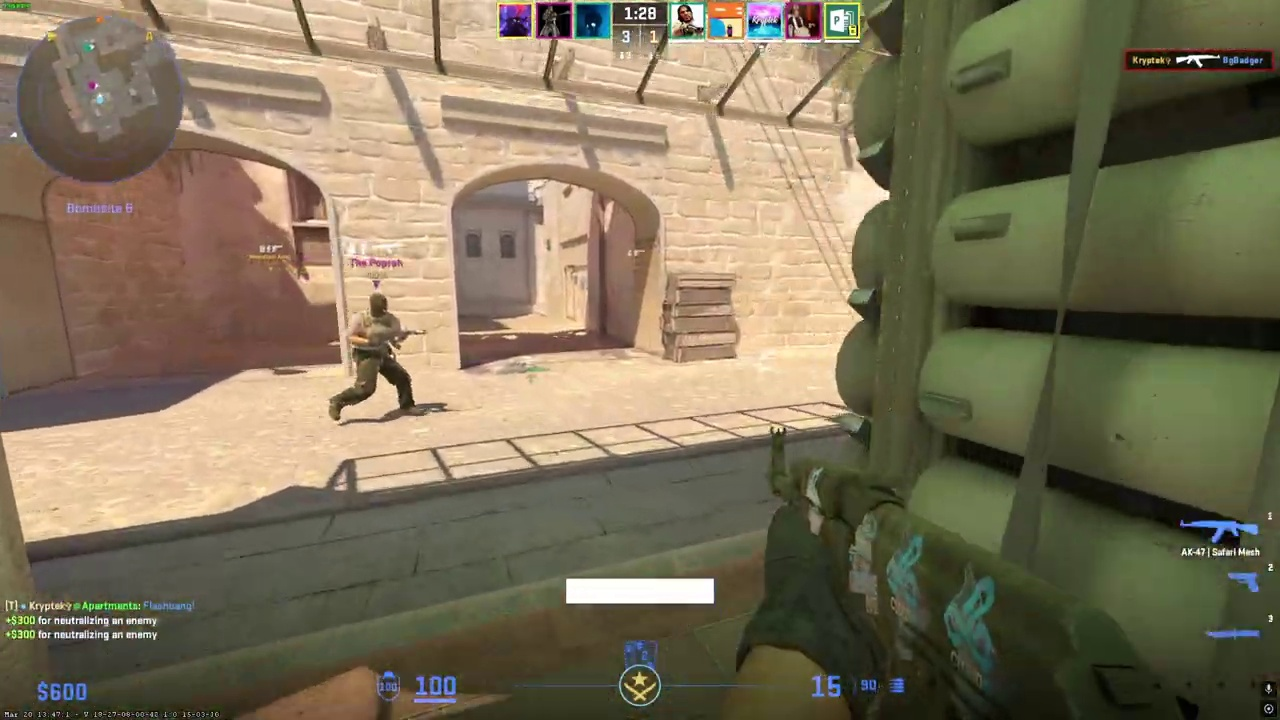Terrorist: (330, 293, 419, 421)
